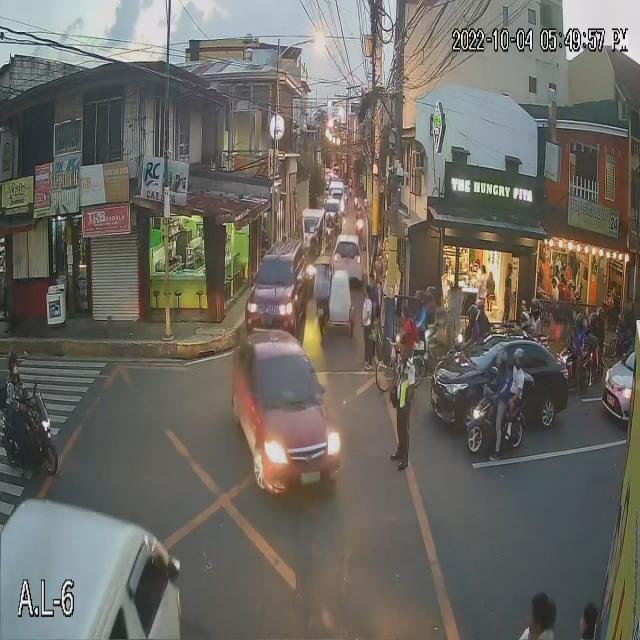helmet: (0, 346, 24, 384), (513, 343, 530, 371), (473, 298, 492, 318), (490, 352, 512, 368), (465, 301, 478, 326), (412, 288, 425, 310), (526, 298, 542, 315), (517, 311, 532, 327), (423, 283, 436, 299), (572, 311, 586, 324)
motorcycle: (0, 391, 59, 479), (465, 392, 538, 459), (560, 339, 603, 390), (353, 221, 364, 239)
rider: (0, 330, 32, 417), (488, 340, 510, 411), (508, 341, 525, 414), (423, 274, 443, 322), (410, 281, 425, 333), (571, 309, 586, 358), (462, 298, 477, 347), (474, 296, 488, 338), (515, 306, 531, 336), (529, 296, 541, 335), (354, 203, 364, 227)
